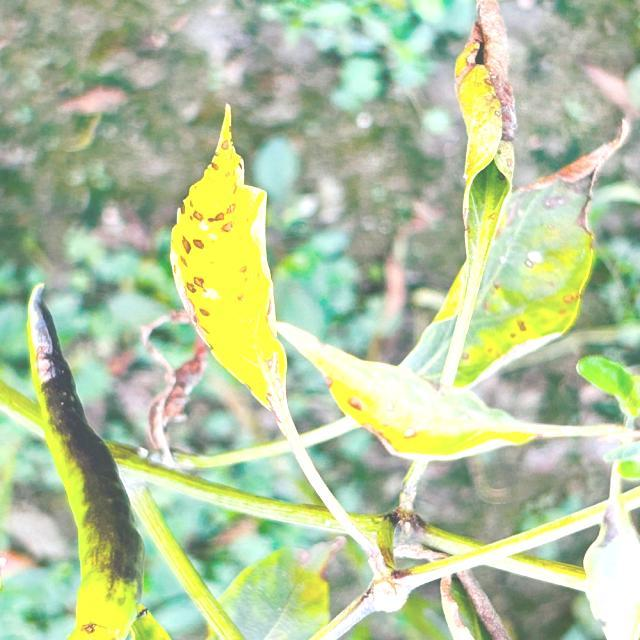Bercak Daun Serkospora: (166, 89, 285, 428), (281, 312, 542, 466), (453, 0, 528, 296)
Busuk Buah Antraknosa: (19, 277, 148, 640)
